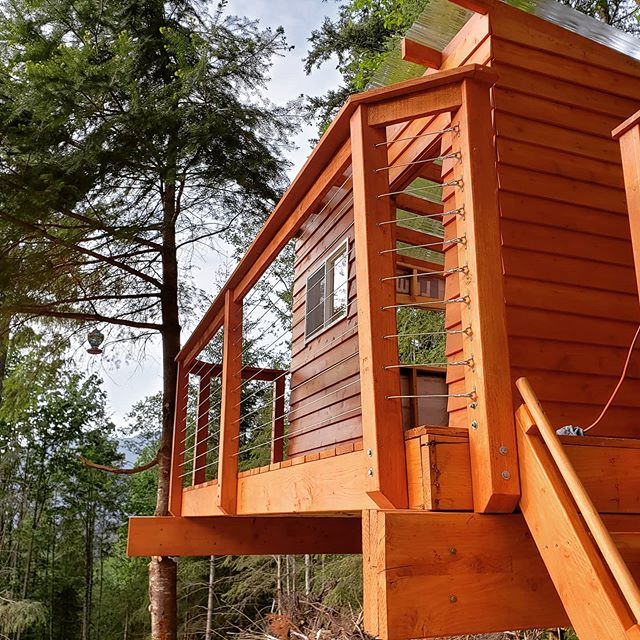building: (166, 52, 640, 640)
tree: (1, 1, 275, 640)
